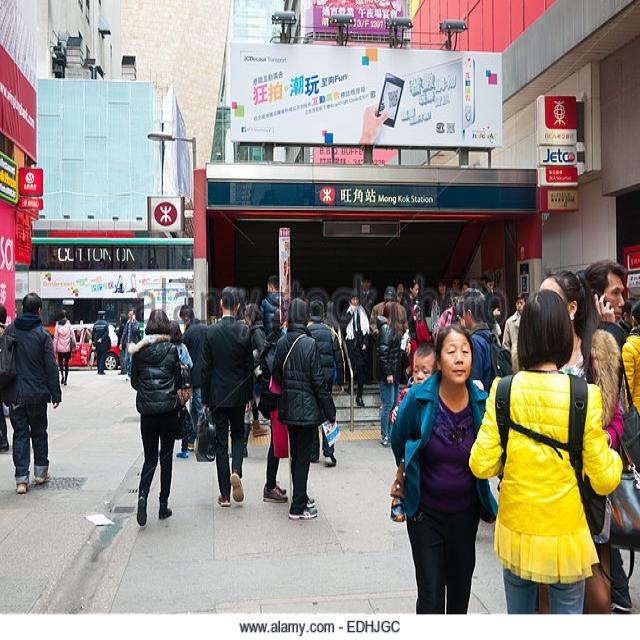body: (467, 287, 625, 614), (536, 268, 639, 616), (389, 324, 488, 616), (387, 343, 485, 524), (268, 293, 336, 524), (191, 283, 259, 509), (124, 303, 183, 529), (0, 292, 63, 495), (196, 274, 509, 307), (256, 315, 291, 504), (304, 298, 341, 468), (459, 286, 514, 396), (369, 285, 413, 411), (374, 298, 408, 447), (581, 257, 630, 357), (178, 303, 210, 452), (163, 320, 194, 461), (340, 288, 373, 410), (242, 302, 270, 426), (501, 291, 529, 375), (403, 278, 426, 374), (621, 296, 639, 410), (53, 307, 78, 387), (430, 276, 457, 342), (89, 309, 113, 380), (117, 306, 140, 379), (0, 301, 11, 453), (115, 311, 129, 374), (620, 298, 634, 322), (86, 338, 95, 372), (573, 265, 585, 283)
